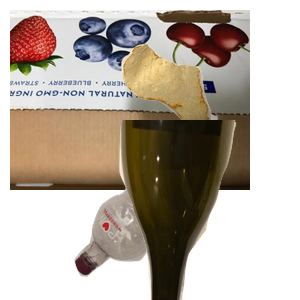cardboard: (10, 10, 250, 190)
glass: (117, 120, 300, 300)
plastic: (72, 142, 273, 300)
trash: (119, 42, 300, 161)
